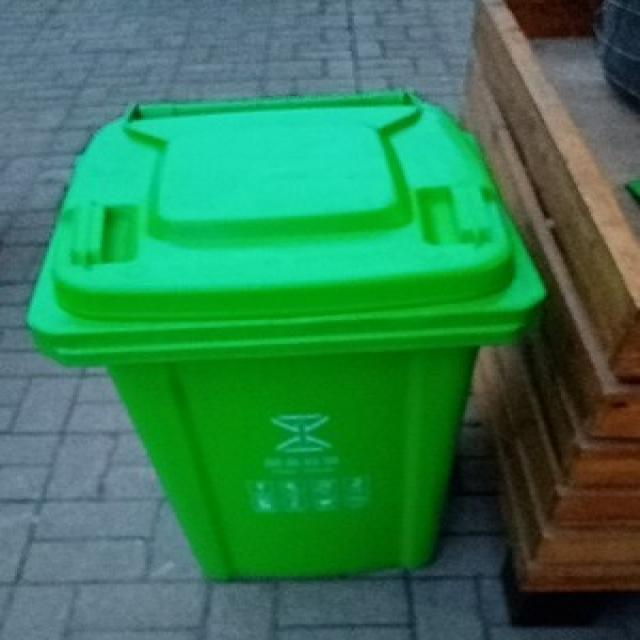ash bin: (32, 85, 546, 579)
